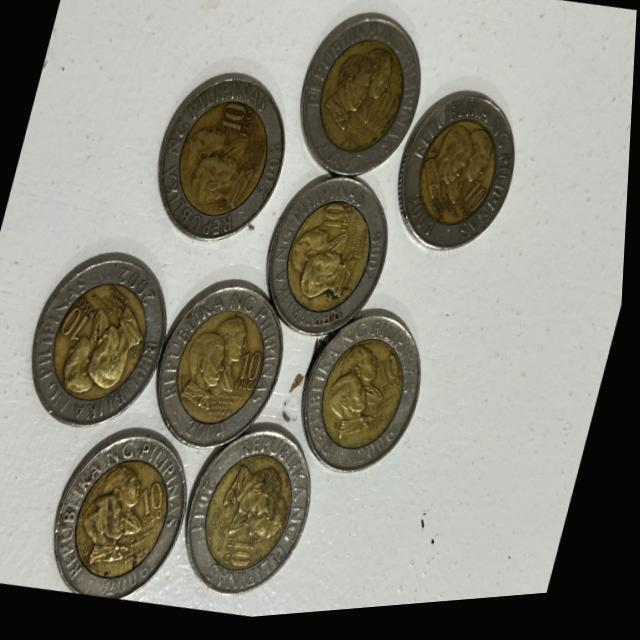10_Old_Front: (206, 87, 273, 156), (130, 475, 189, 546), (313, 193, 366, 253), (456, 173, 504, 231)
